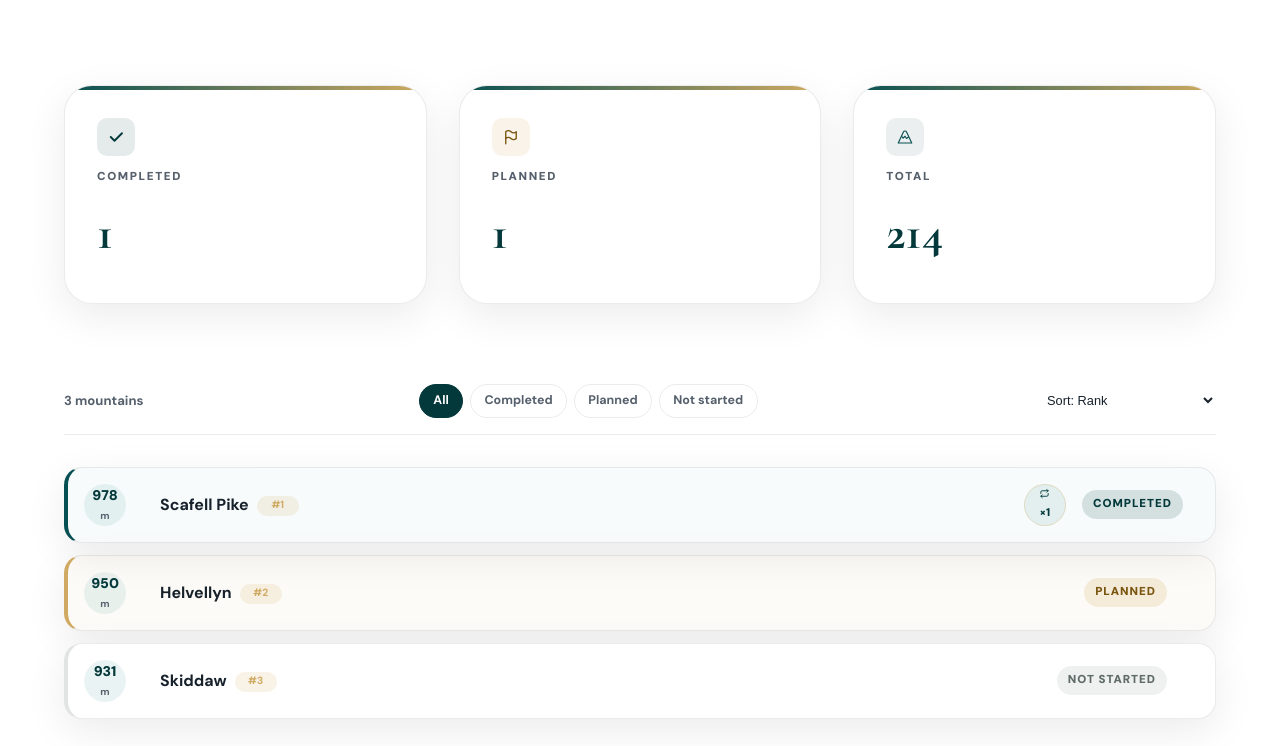
Scenario: CollectionDetailPage — success state › filters to not started mountains only
This screenshot has width=1280, height=746.
(page scrolled)
Expected: the text "Skiddaw" is shown, [160, 670, 227, 691]
Click the button "Not started" at (708, 401), box [659, 384, 758, 418]
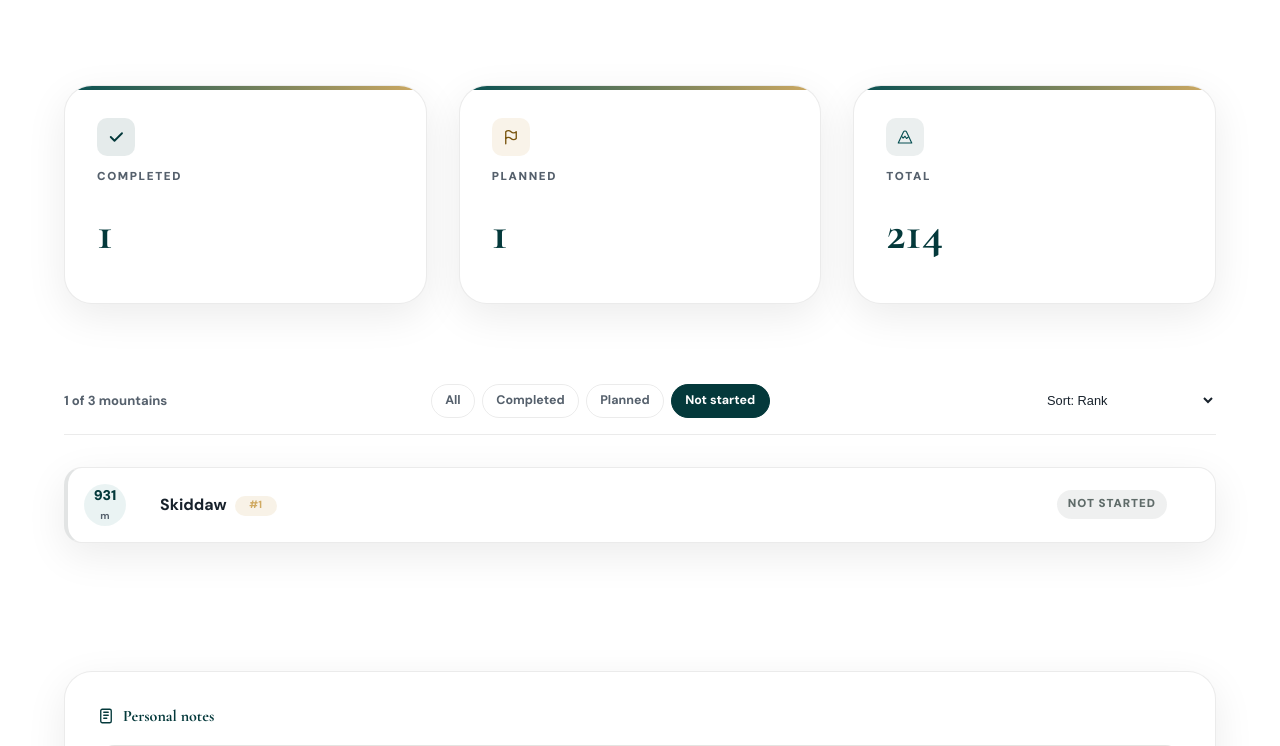
Expected: the text "Skiddaw" is shown, [160, 494, 227, 515]
Result: the link "Scafell Pike" is gone
Result: the link "Helvellyn" is gone
